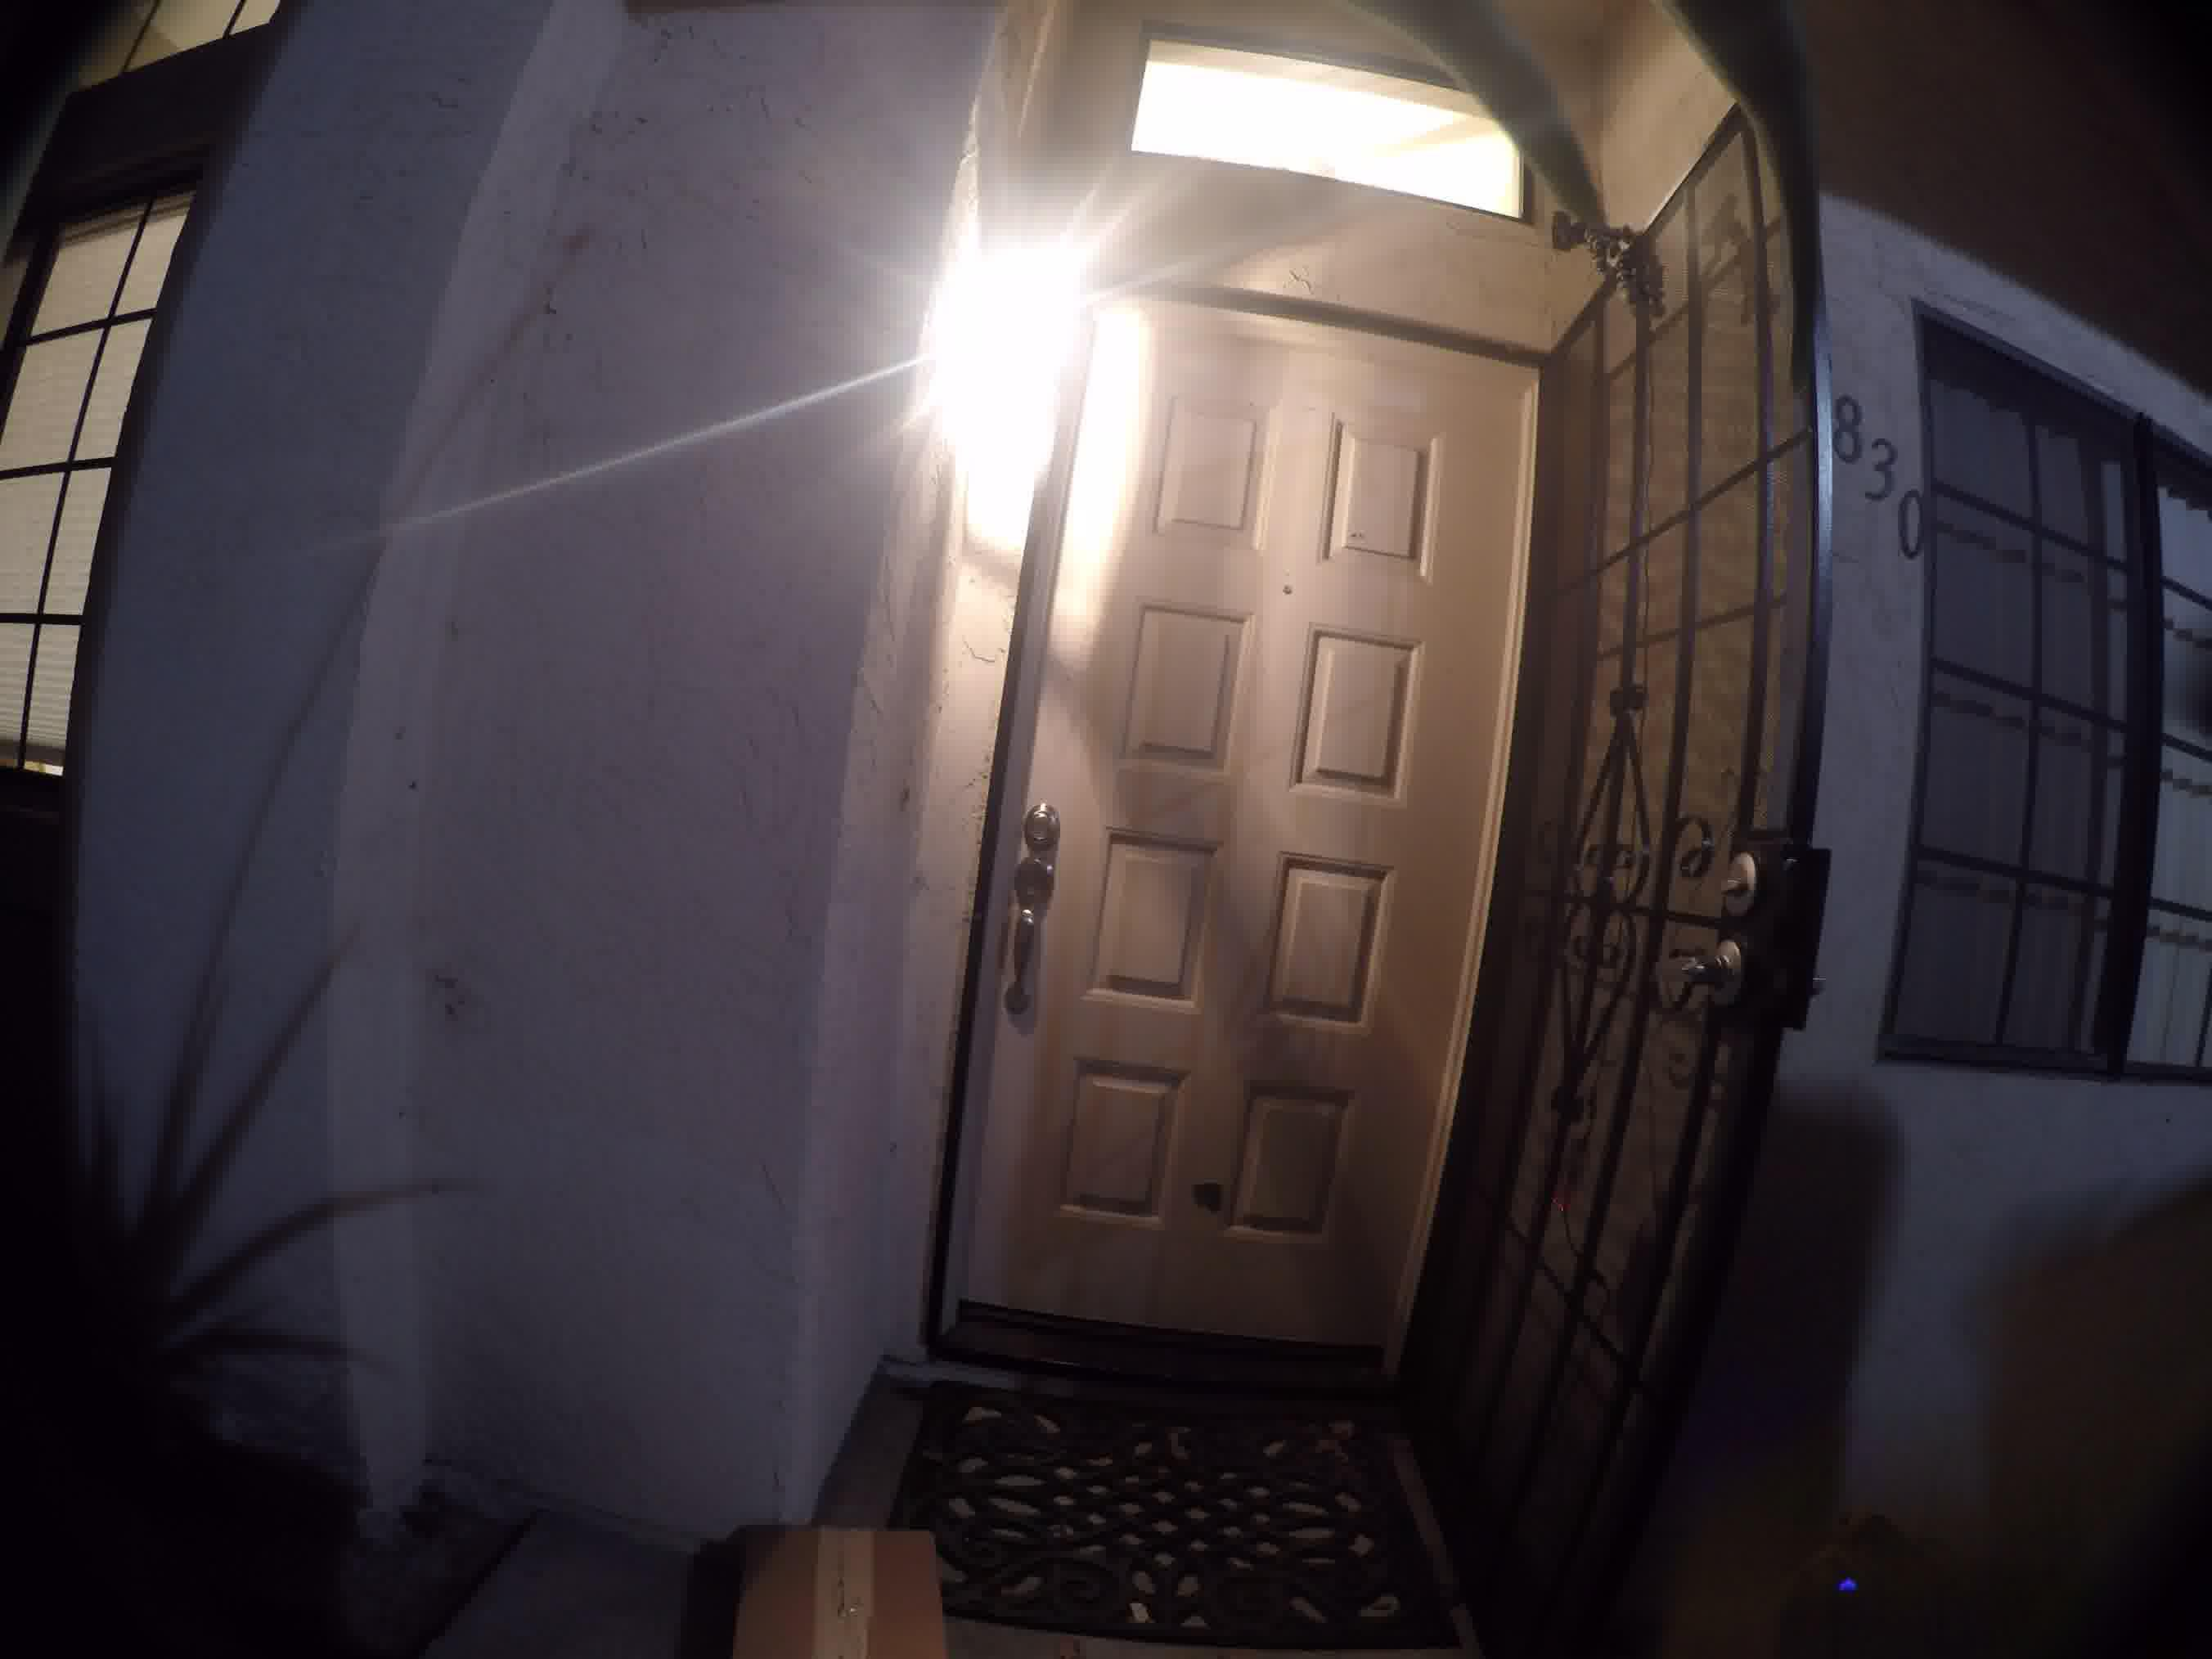box: (737, 1532, 944, 1659)
